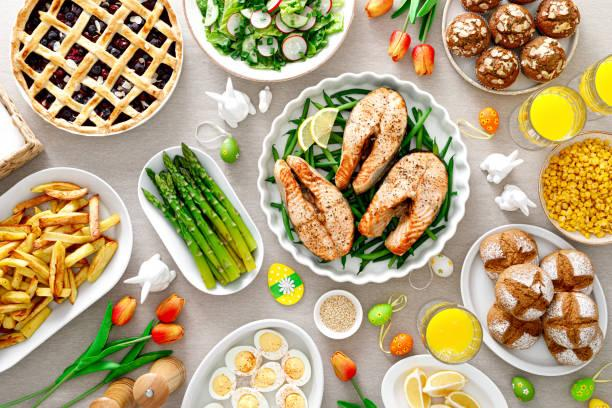Braised Crucian Carp: (256, 70, 465, 284), (1, 165, 135, 380), (459, 225, 606, 376), (11, 5, 179, 137), (136, 145, 259, 295), (181, 0, 352, 83), (442, 0, 577, 96), (178, 318, 322, 407), (538, 135, 612, 245)
